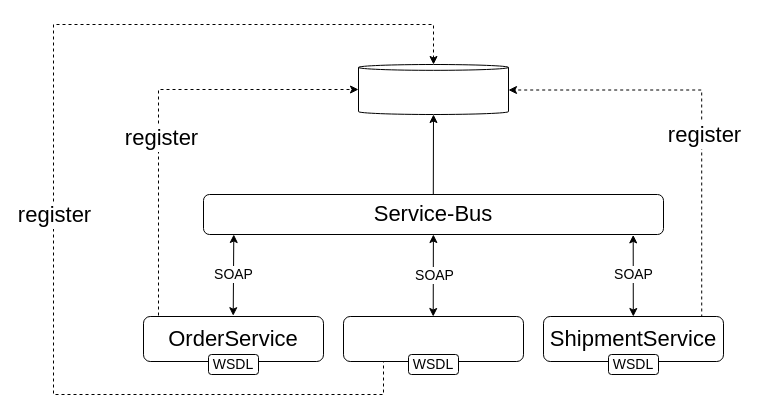
The diagram is 758 pixels wide and 420 high, and some of its shapes have lost their labels. The shapes that lost their labels are listed below. From the top down, each one's centre as x and y in pixels, then its label:
At [433,89]: "Registry".
At [433,339]: "PaymentService".
